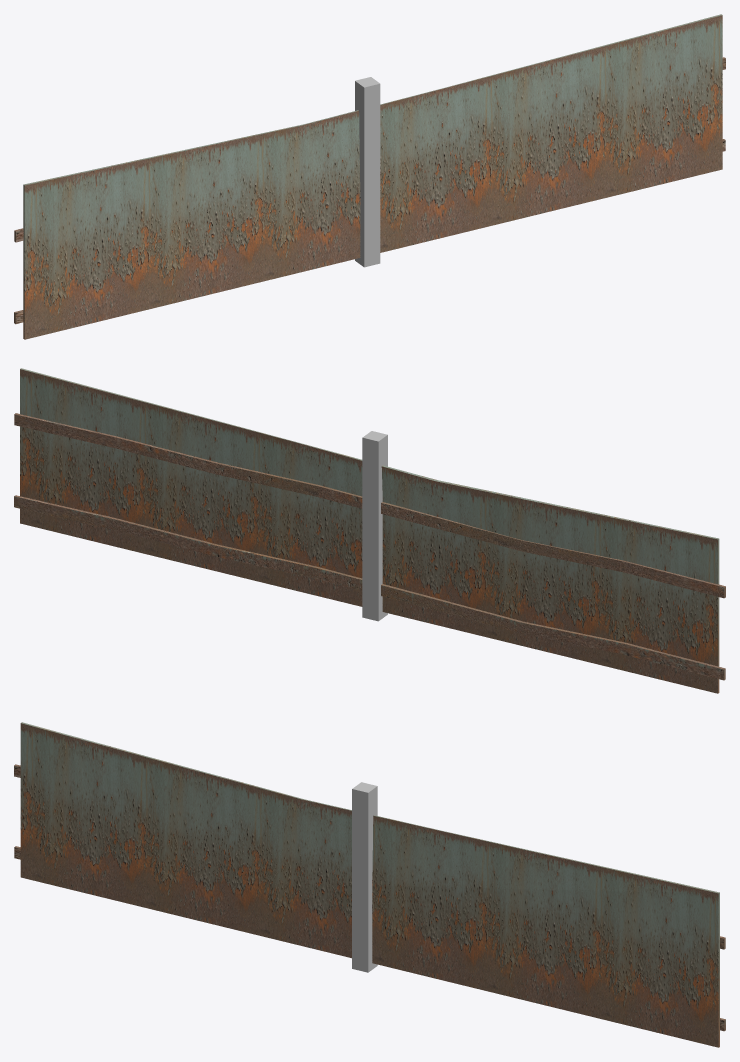
The model's file is fence2.fbx.
The picture shows the model from 3 angles, top to bottom: view 1: azimuth 30°, elevation 25°; view 2: azimuth 150°, elevation 25°; view 3: azimuth 330°, elevation 25°; orthographic projection.
Parts seen in each view (by area): view 1: Mesh Object; view 2: Mesh Object; view 3: Mesh Object.
Boxes of the visible parts, x1,y1,x2,y2 form: Mesh Object: (14, 14, 725, 339); Mesh Object: (14, 368, 725, 693); Mesh Object: (14, 722, 725, 1047).
Bounding box in the file's own units: 10.37 × 2.51 × 0.2355.
